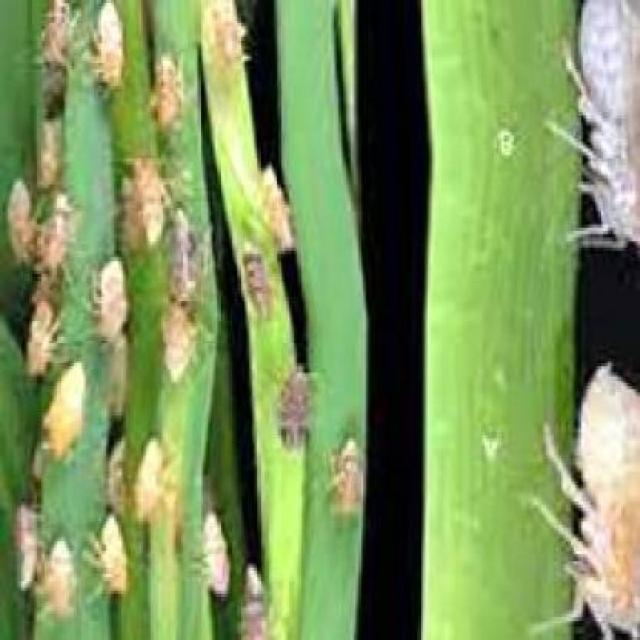brown-planthopper: (567, 364, 640, 640), (568, 0, 638, 237), (45, 356, 93, 469), (124, 440, 168, 518), (328, 438, 370, 518), (127, 154, 164, 243), (93, 0, 127, 89), (282, 364, 316, 448), (94, 256, 126, 342), (199, 513, 232, 595), (95, 510, 127, 593), (160, 305, 195, 380), (44, 538, 76, 618), (262, 178, 295, 250), (212, 13, 248, 75), (150, 59, 182, 124), (242, 252, 272, 316), (39, 218, 72, 276), (30, 298, 53, 377)
